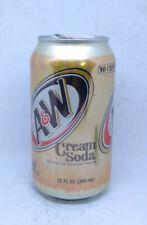metal: (31, 36, 115, 200)
